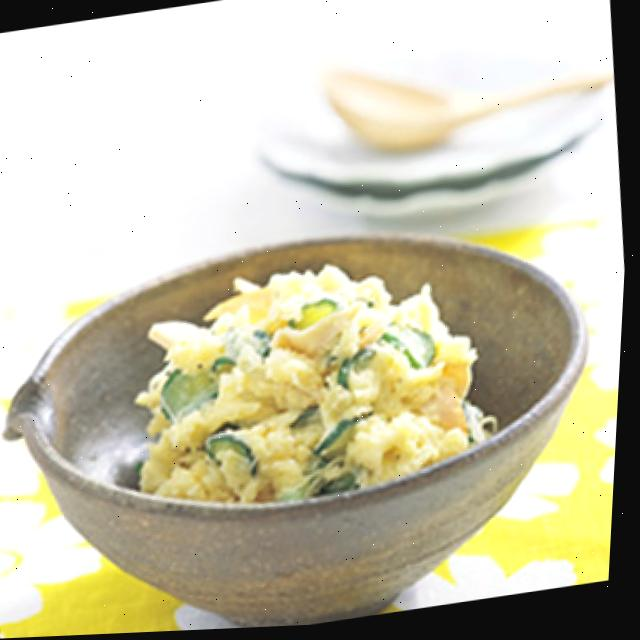蔬菜料理: (0, 179, 620, 639)
